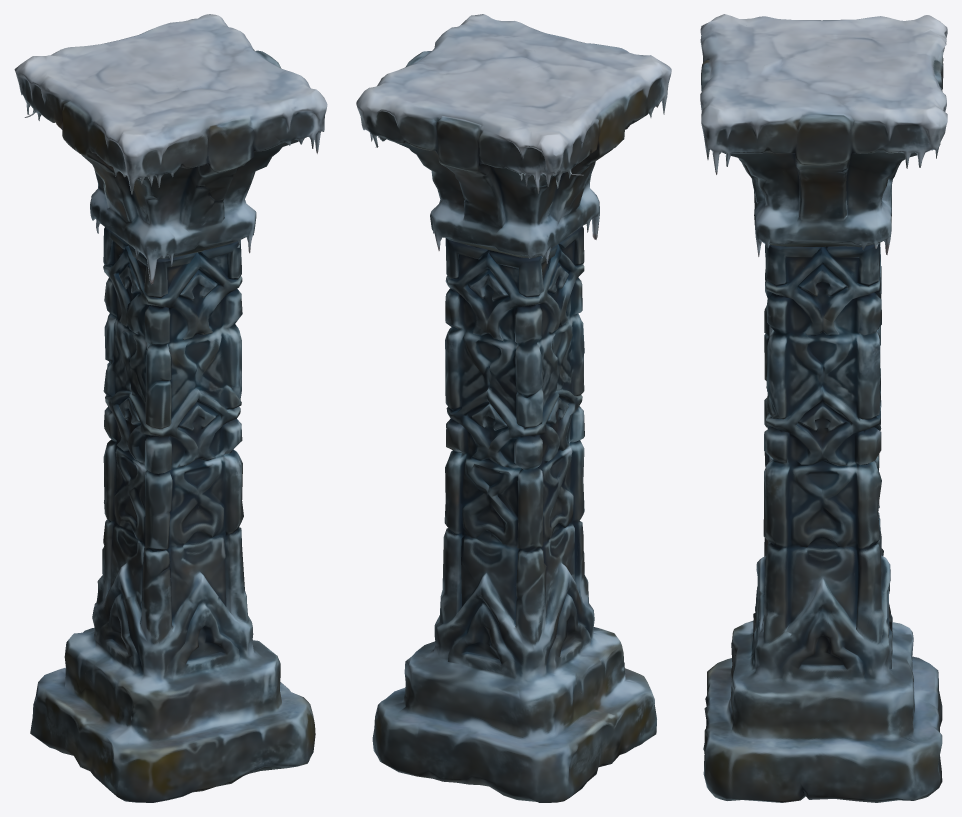
File: support_pillar.glb
3 views of the same model, side by side, from view 1: azimuth 30°, elevation 25°; view 2: azimuth 150°, elevation 25°; view 3: azimuth 270°, elevation 25° (orthographic). The views are drawn at different scales.
Visible parts, largest first — view 1: geometry_0; view 2: geometry_0; view 3: geometry_0.
Part boxes in pixels (left/top/right/bottom): geometry_0: left=14, top=14, right=327, bottom=802; geometry_0: left=356, top=14, right=671, bottom=802; geometry_0: left=700, top=14, right=947, bottom=802.
Size of the model in its own units: 0.313 by 0.9521 by 0.3071.
Materials: 1 (1 with a texture image).
